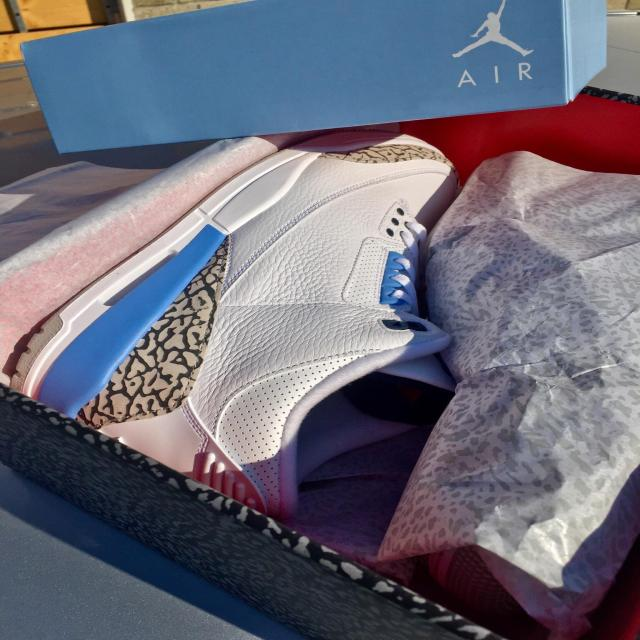shoe: (46, 122, 468, 462)
